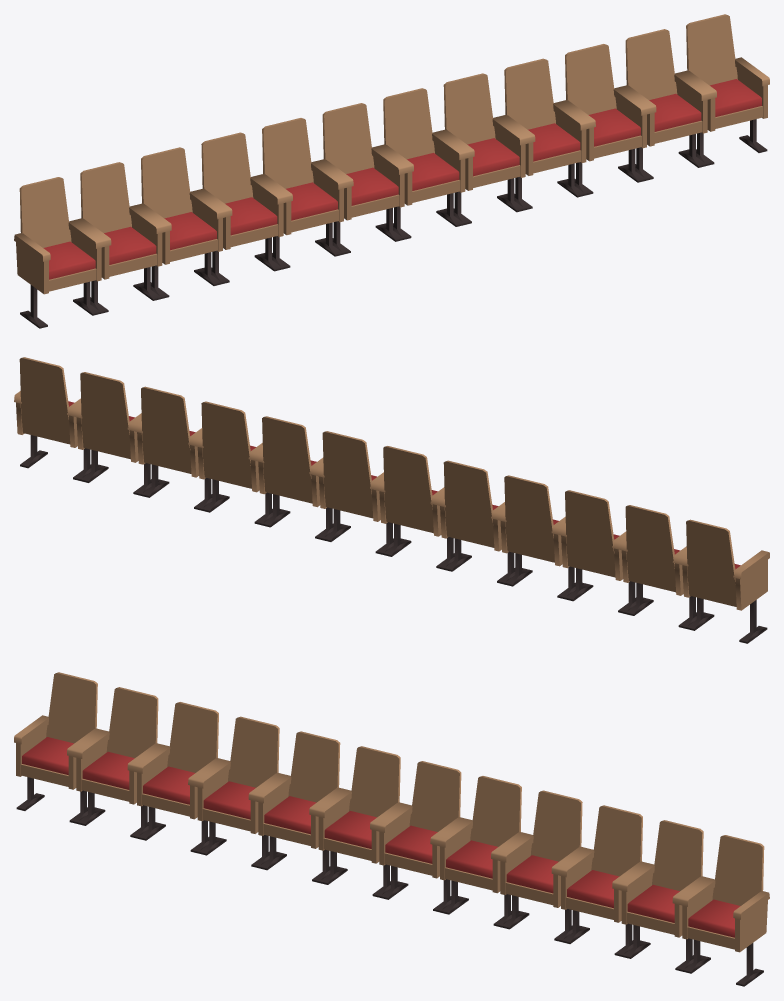
The model's file is Group_chair_01.FBX.
3 renders of one model, top to bottom at view 1: azimuth 30°, elevation 25°; view 2: azimuth 150°, elevation 25°; view 3: azimuth 330°, elevation 25°, orthographic.
Parts seen in each view (by area): view 1: chair01 (×12), chair02 (×12); view 2: chair01 (×12), chair02 (×12); view 3: chair01 (×12), chair02 (×12).
Part boxes in pixels (x1,y1,x2,y2): chair01 (×12): (19, 14, 762, 291); chair02 (×12): (14, 57, 769, 328); chair01 (×12): (19, 357, 740, 606); chair02 (×12): (14, 391, 769, 643); chair01 (×12): (21, 672, 764, 949); chair02 (×12): (14, 715, 769, 986).
Size of the model in its own units: 658 by 102 by 51.06.
Materials: 1 (1 with a texture image).
